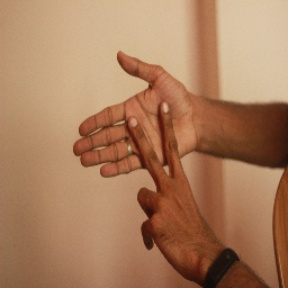N: (67, 46, 219, 234)
